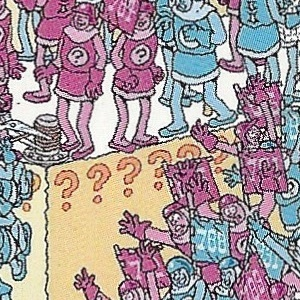Wizard Whitebeard: (126, 76, 174, 224)
